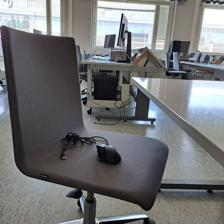mouse: (95, 142, 122, 166)
